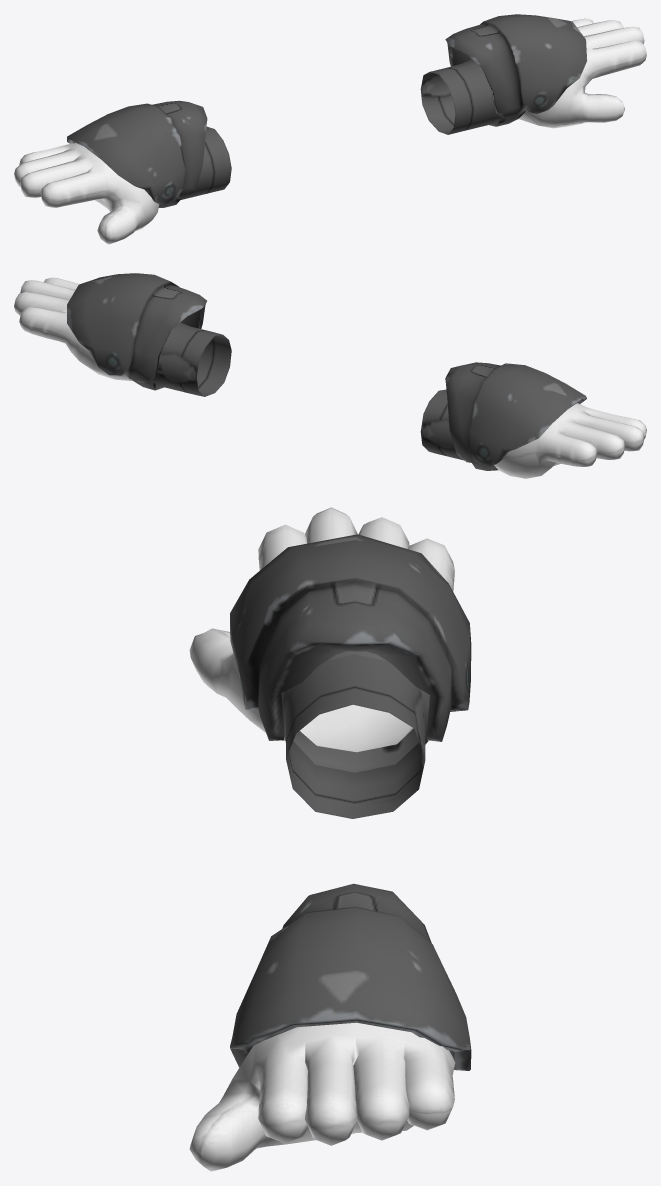
3 views of the same model, one above another, from view 1: azimuth 30°, elevation 25°; view 2: azimuth 150°, elevation 25°; view 3: azimuth 270°, elevation 25° (orthographic). The views are drawn at different scales.
Parts seen in each view (by area): view 1: model_0_submesh_1, model_0_submesh_0; view 2: model_0_submesh_1, model_0_submesh_0; view 3: model_0_submesh_1, model_0_submesh_0.
Part boxes in pixels (box(x1,y1,x2,y2)): model_0_submesh_1: box(67, 14, 587, 207); model_0_submesh_0: box(14, 18, 646, 244); model_0_submesh_1: box(67, 273, 586, 470); model_0_submesh_0: box(14, 277, 646, 478); model_0_submesh_1: box(230, 534, 471, 1070); model_0_submesh_0: box(189, 507, 455, 1171).
Size of the model in its own units: 1.29 by 0.198 by 0.2537.
